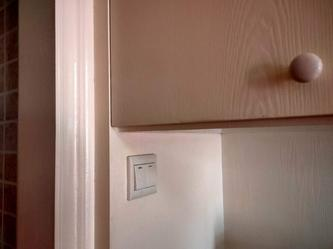switch: (134, 162, 147, 192), (145, 161, 158, 189)
